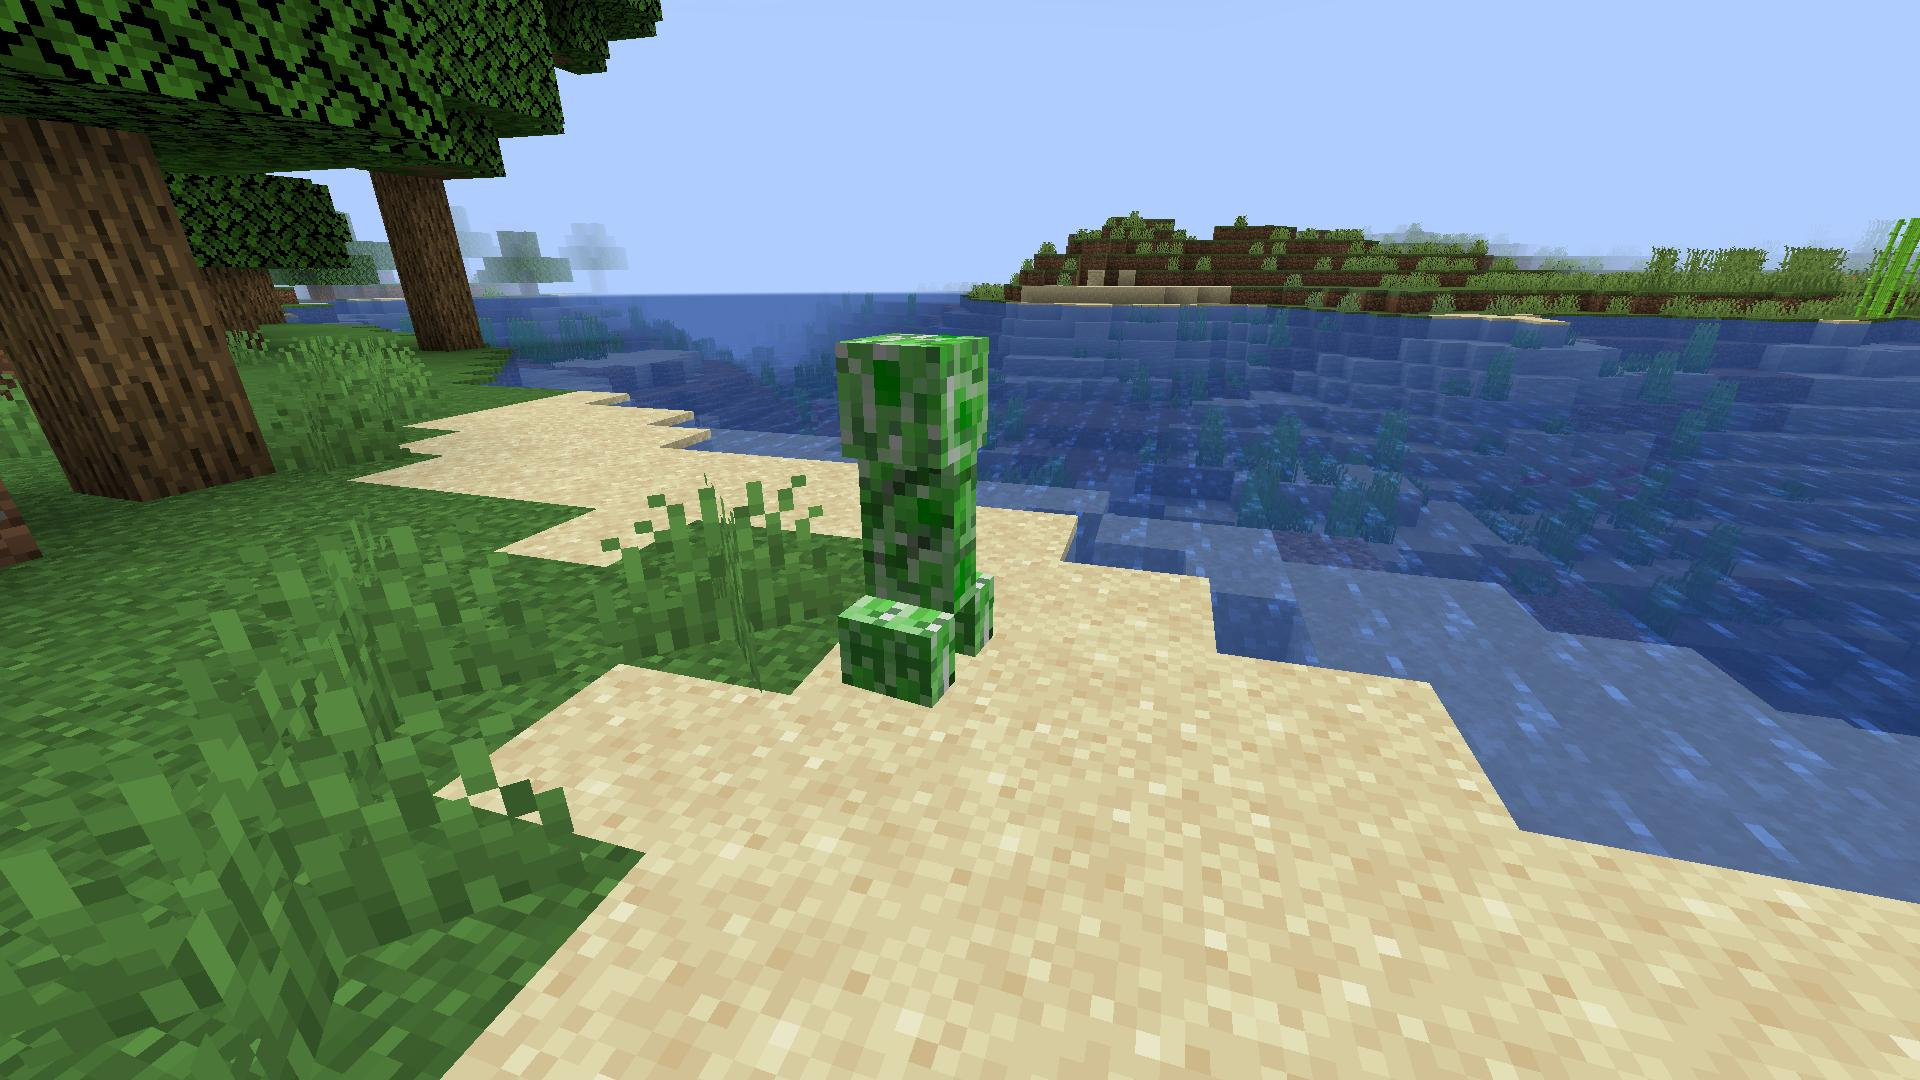creeper: (831, 327, 1001, 705)
